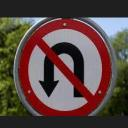NoVirarU: (17, 17, 112, 115)
